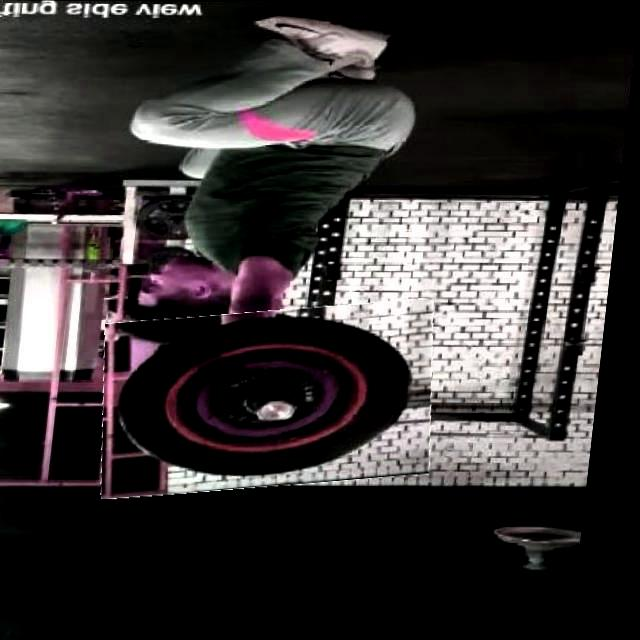barbell: (103, 302, 452, 494)
